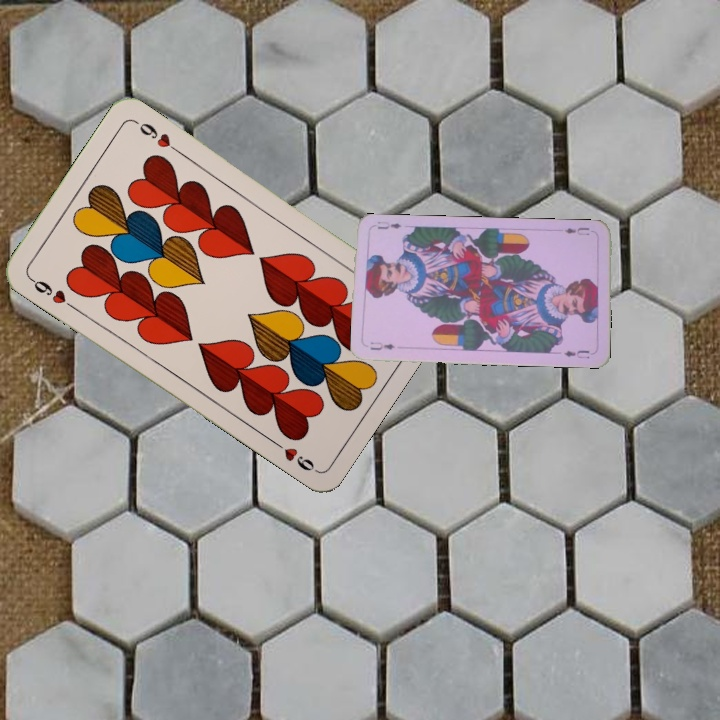EU: (366, 338, 398, 353), (561, 223, 592, 238)
H9: (25, 273, 78, 312)
